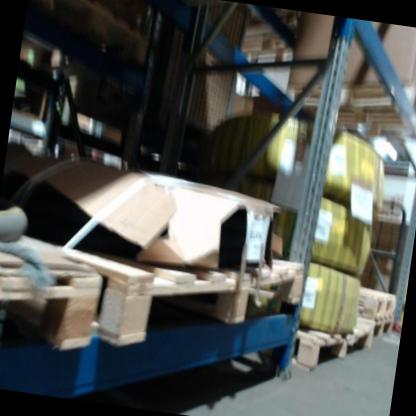pallet: (7, 212, 310, 370), (0, 226, 111, 361), (269, 61, 416, 152), (28, 0, 154, 68), (290, 302, 379, 380), (350, 281, 400, 318), (367, 309, 399, 341)
stillage: (151, 0, 246, 133)
